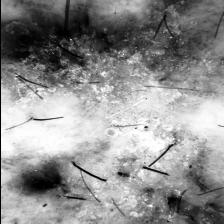Potentially Malignant Skin Tumors: (8, 152, 224, 223), (0, 18, 113, 94), (138, 0, 220, 93)
